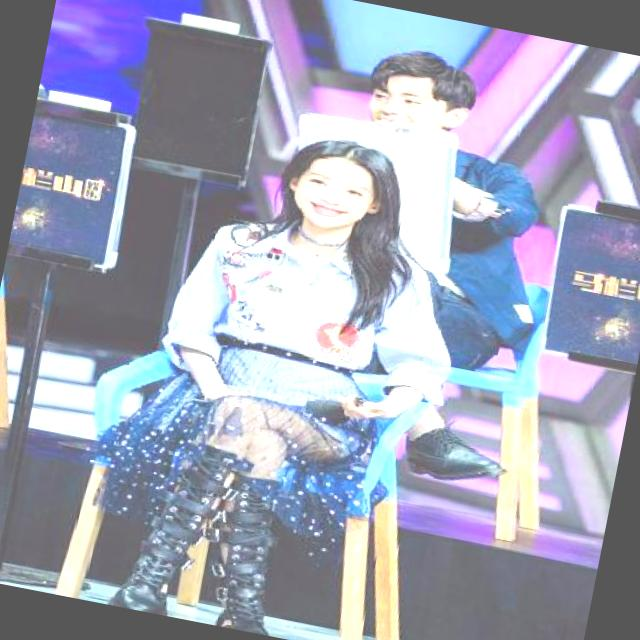Person: (112, 96, 438, 640)
